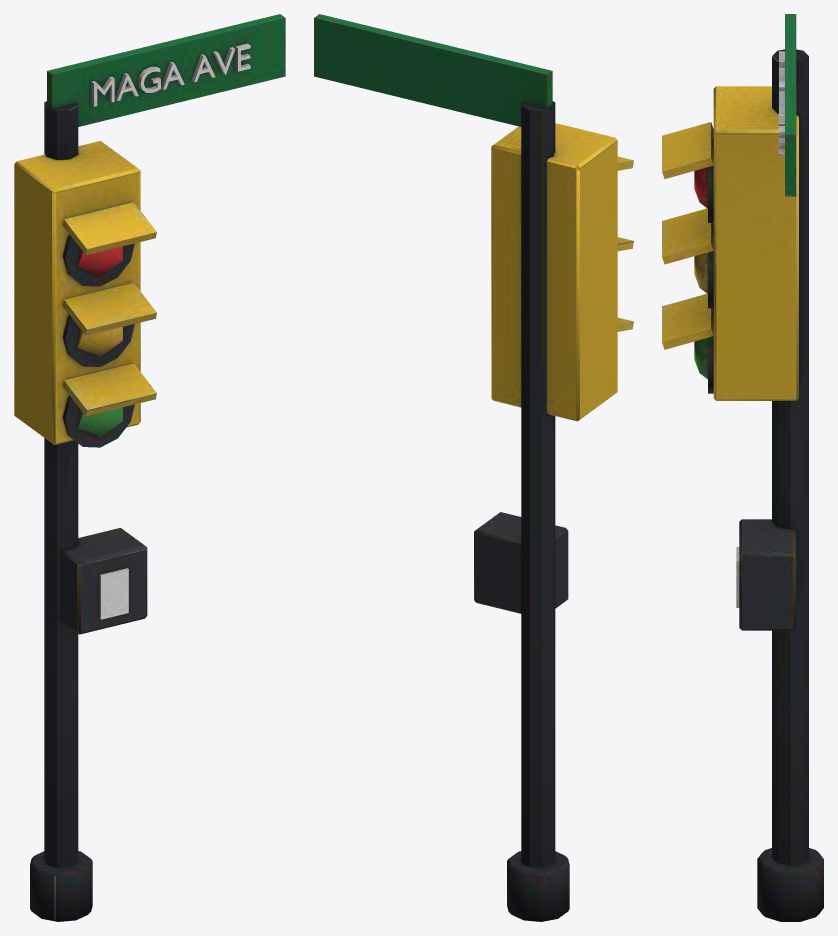
The model's file is semaforo.glb.
3 renders of one model, left to right at view 1: azimuth 30°, elevation 25°; view 2: azimuth 150°, elevation 25°; view 3: azimuth 270°, elevation 25°, orthographic. The views are drawn at different scales.
Visible parts, largest first — view 1: semaforo; view 2: semaforo; view 3: semaforo.
Boxes of the visible parts, x1=… form: semaforo: x1=14, y1=14, x2=285, y2=921; semaforo: x1=314, y1=14, x2=633, y2=921; semaforo: x1=662, y1=14, x2=823, y2=921.
Bounding box in the file's own units: 1.14 × 3.44 × 0.5673.
1 material, 1 textured.
